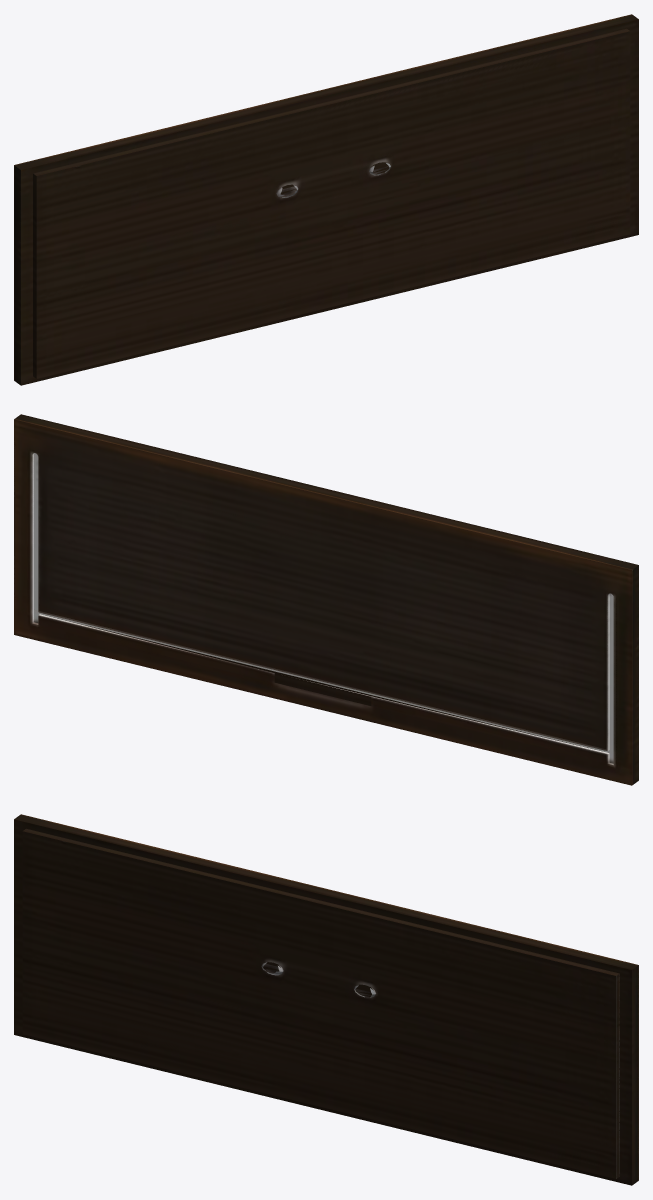
Rendered from link_3__drawer_front-123.glb.
The picture shows the model from 3 angles, top to bottom: view 1: azimuth 30°, elevation 25°; view 2: azimuth 150°, elevation 25°; view 3: azimuth 330°, elevation 25°; orthographic projection.
Visible parts, largest first — view 1: world; view 2: world; view 3: world.
Part boxes in pixels (<box>): world: <box>14,14,638,385</box>; world: <box>14,414,638,785</box>; world: <box>14,814,638,1185</box>.
Size of the model in its own units: 0.5356 by 0.1785 by 0.0196.
1 material, 1 textured.
